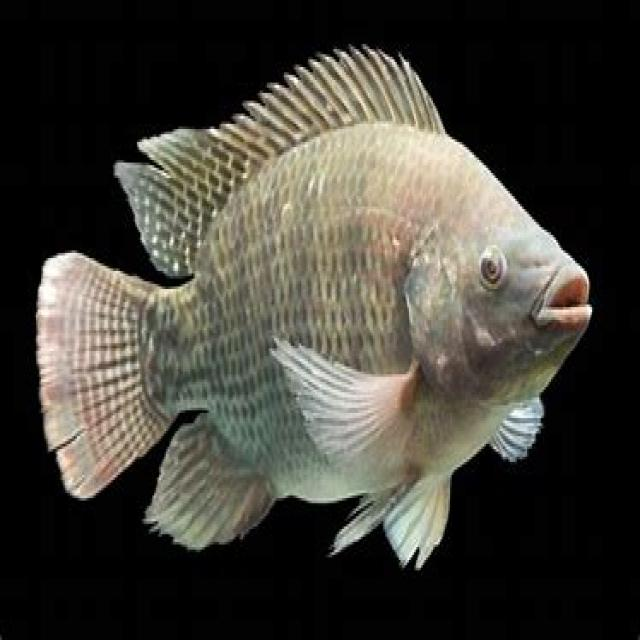Tilapia: (36, 48, 594, 572)
